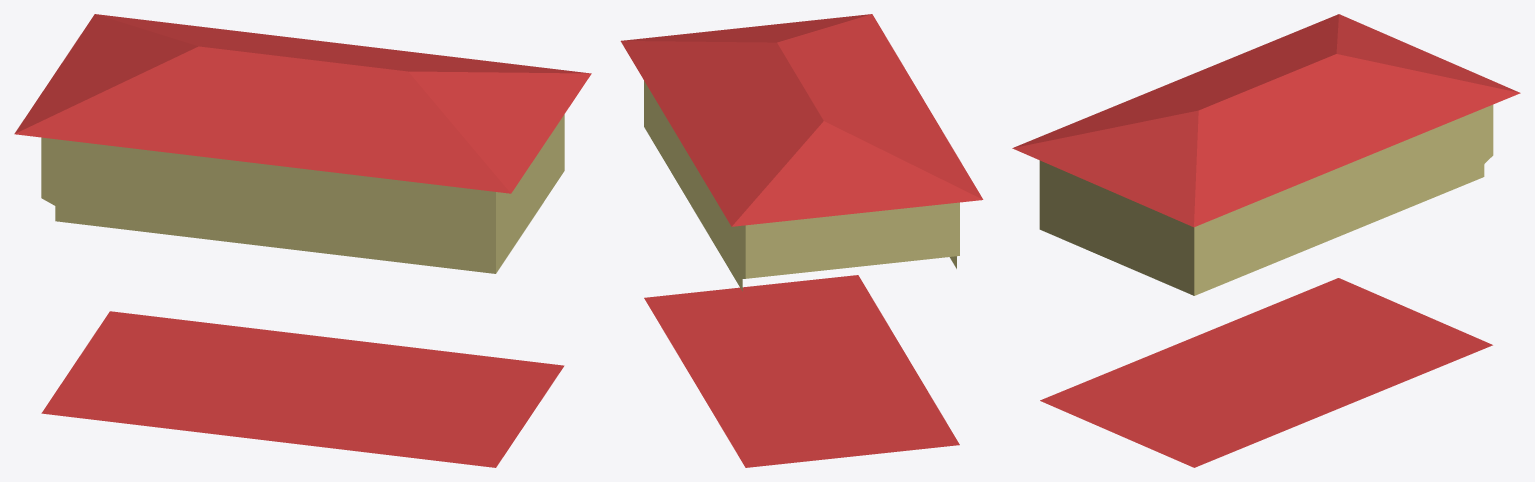
3 views of the same model, side by side, from view 1: azimuth 30°, elevation 25°; view 2: azimuth 150°, elevation 25°; view 3: azimuth 270°, elevation 25° (orthographic). The views are drawn at different scales.
Parts seen in each view (by area): view 1: group_3, group_6, group_5, group_4; view 2: group_3, group_6, group_5, group_4; view 3: group_3, group_6, group_5, group_4.
Boxes of the visible parts, bbox=[...] form: group_3: bbox=[14, 14, 591, 193]; group_6: bbox=[41, 311, 564, 467]; group_5: bbox=[41, 114, 564, 273]; group_4: bbox=[15, 121, 510, 193]; group_3: bbox=[620, 14, 982, 226]; group_6: bbox=[644, 275, 959, 467]; group_5: bbox=[644, 81, 959, 291]; group_4: bbox=[858, 14, 982, 199]; group_3: bbox=[1012, 14, 1520, 227]; group_6: bbox=[1040, 278, 1492, 467]; group_5: bbox=[1039, 104, 1493, 295]; group_4: bbox=[1015, 14, 1338, 147].
Bounding box in the file's own units: 19.48 × 19.63 × 12.39.
